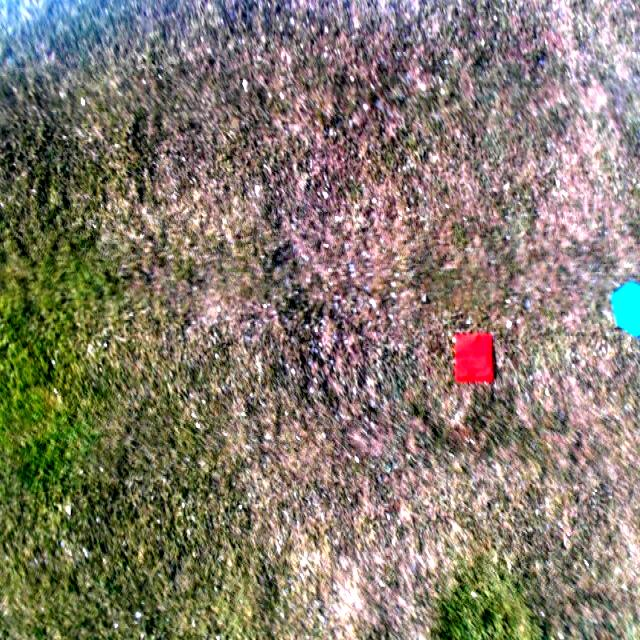red_square: (454, 332, 494, 382)
